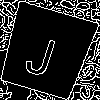J: (22, 26, 62, 79)
